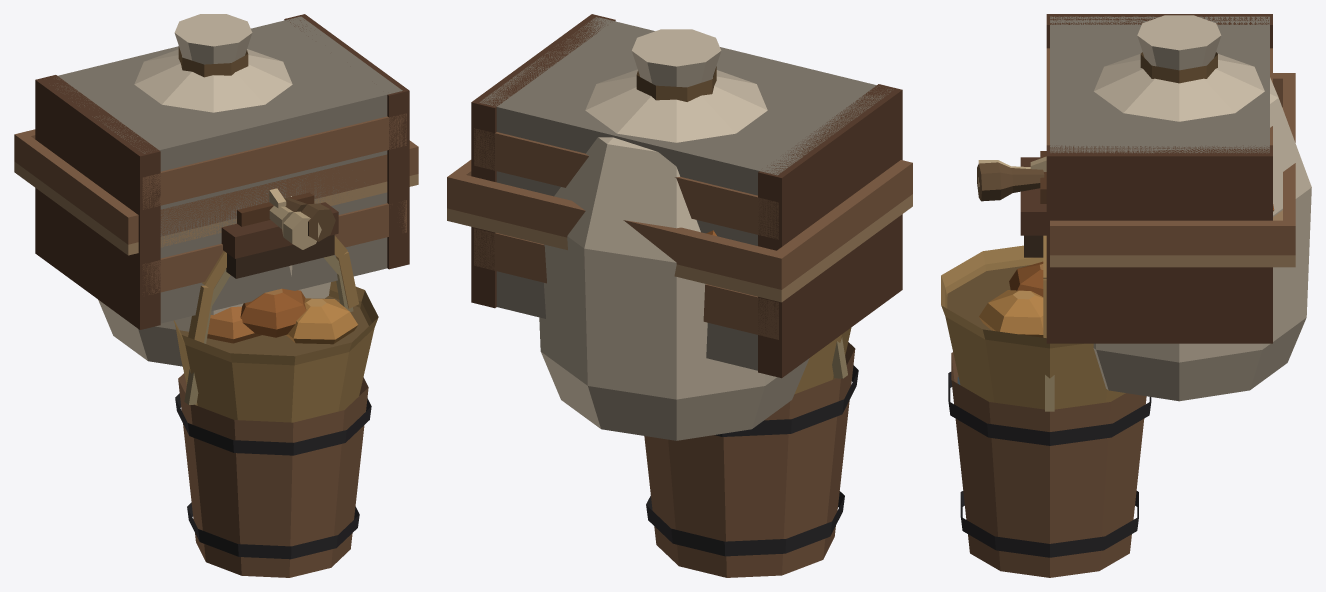
The model's file is utensilios.glb.
3 renders of one model, left to right at view 1: azimuth 30°, elevation 25°; view 2: azimuth 150°, elevation 25°; view 3: azimuth 270°, elevation 25°, orthographic. The views are drawn at different scales.
Parts seen in each view (by area): view 1: caja, cubo, cesta_pan, bandeja, saco_harina, cepillo, pasador, pasador_roto; view 2: caja, saco_harina, cubo, bandeja, cesta_pan; view 3: caja, cubo, saco_harina, cesta_pan, bandeja, cepillo, pasador_roto.
Boxes of the visible parts, x1,y1,x2,y2 form: caja: [35, 14, 409, 329]; cubo: [175, 255, 371, 577]; cesta_pan: [173, 235, 378, 422]; bandeja: [14, 129, 418, 255]; saco_harina: [98, 14, 330, 366]; cepillo: [221, 192, 338, 278]; pasador: [269, 206, 321, 249]; pasador_roto: [284, 197, 335, 241]; caja: [471, 14, 902, 378]; saco_harina: [539, 29, 809, 440]; cubo: [644, 337, 858, 577]; bandeja: [447, 160, 912, 302]; cesta_pan: [794, 327, 851, 394]; caja: [1046, 14, 1272, 343]; cubo: [948, 352, 1151, 577]; saco_harina: [1093, 15, 1311, 401]; cesta_pan: [941, 235, 1125, 409]; bandeja: [1050, 73, 1295, 267]; cepillo: [1020, 151, 1046, 257]; pasador_roto: [977, 162, 1044, 201].
Size of the model in its own units: 0.56 by 0.87 by 0.573.
